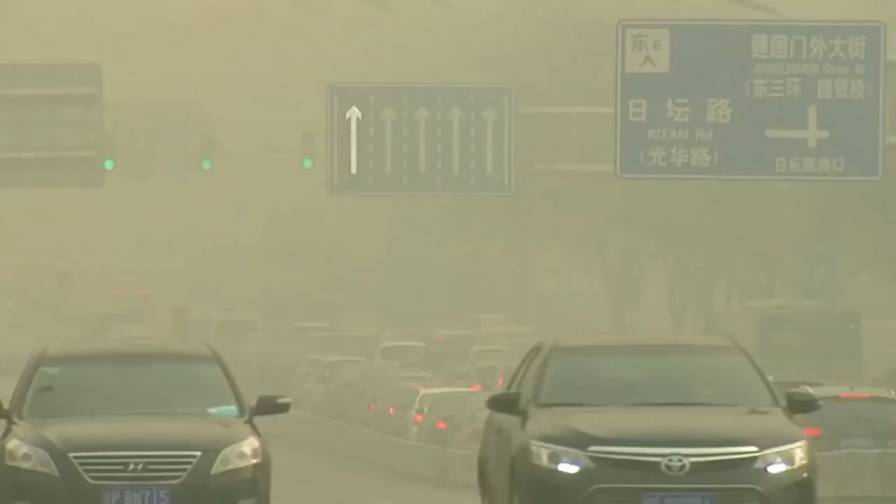car: (471, 330, 823, 504), (1, 337, 291, 504), (767, 385, 894, 504)
